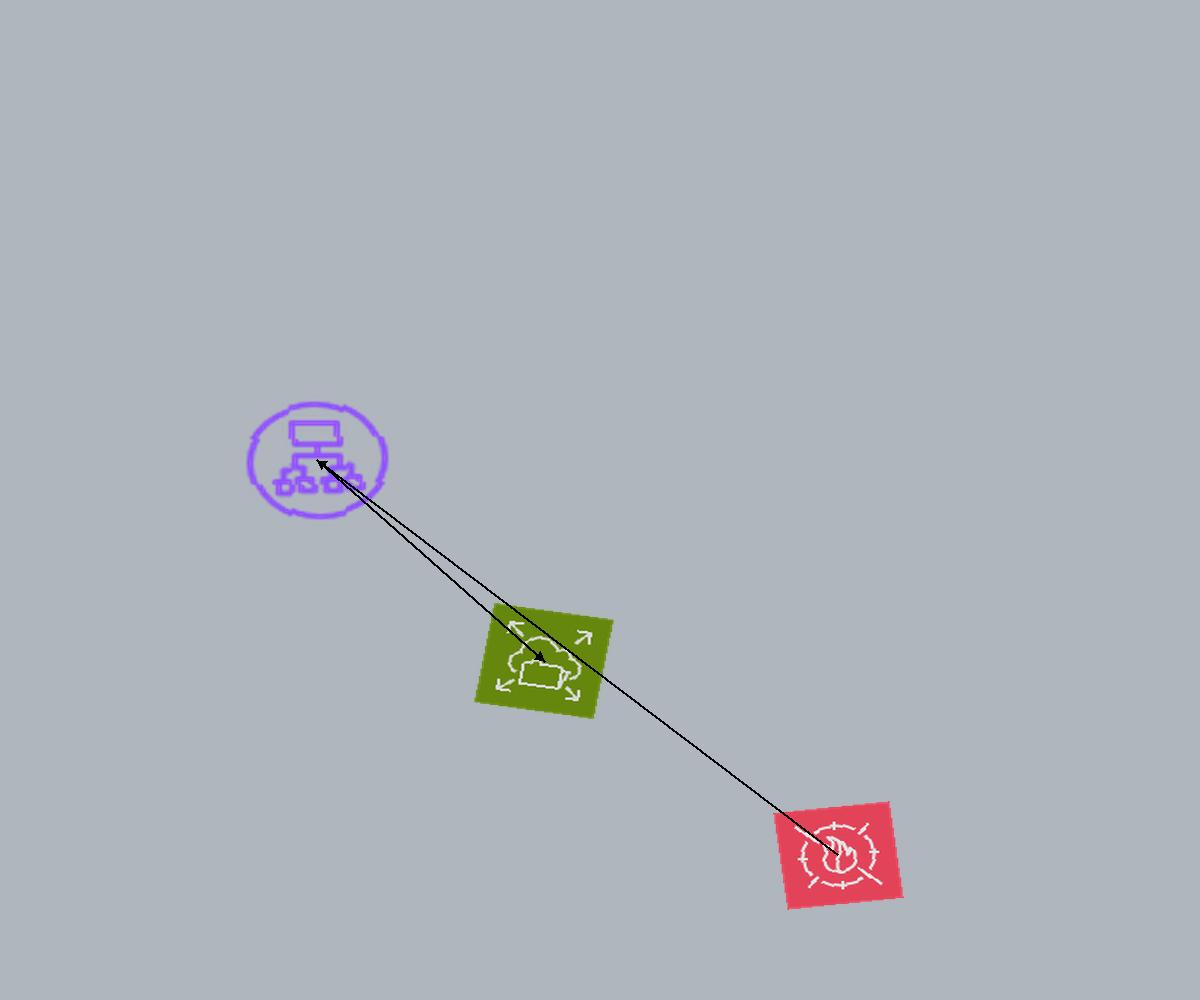AWS-EFS: (473, 602, 615, 720)
AWS-Res_Elastic-Load-Balancing_Application-Load-Balancer: (234, 391, 401, 530)
AWS-WAF: (773, 801, 904, 910)
